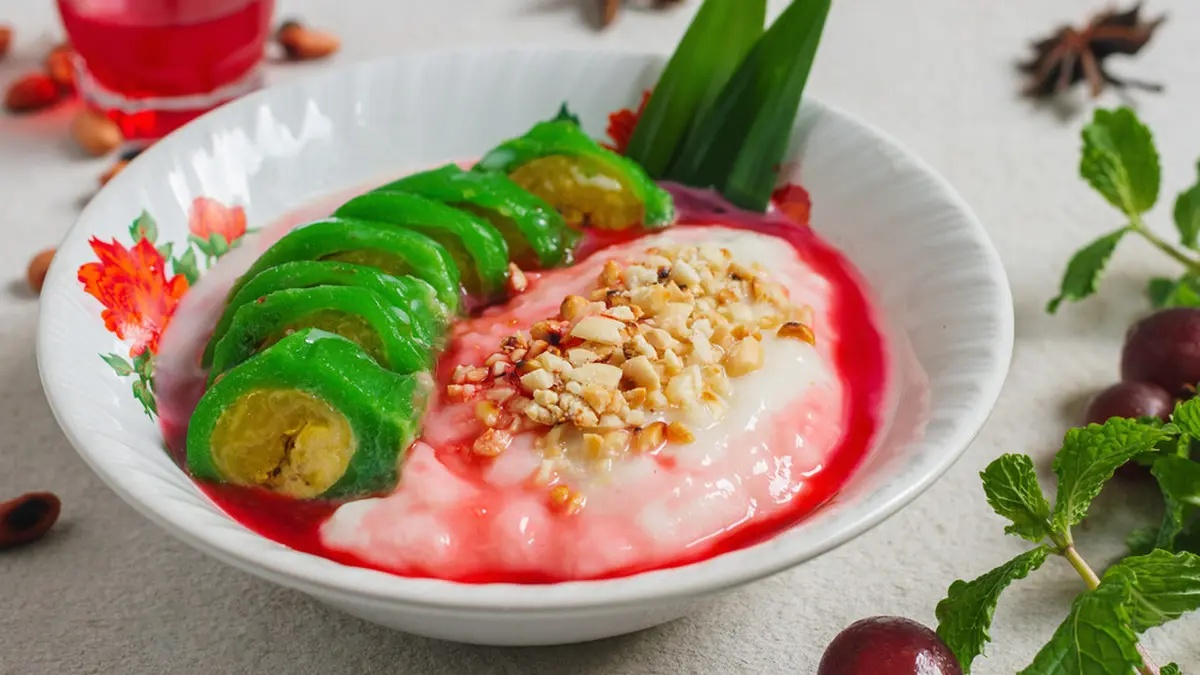pisang_ijo: (170, 314, 402, 535)
